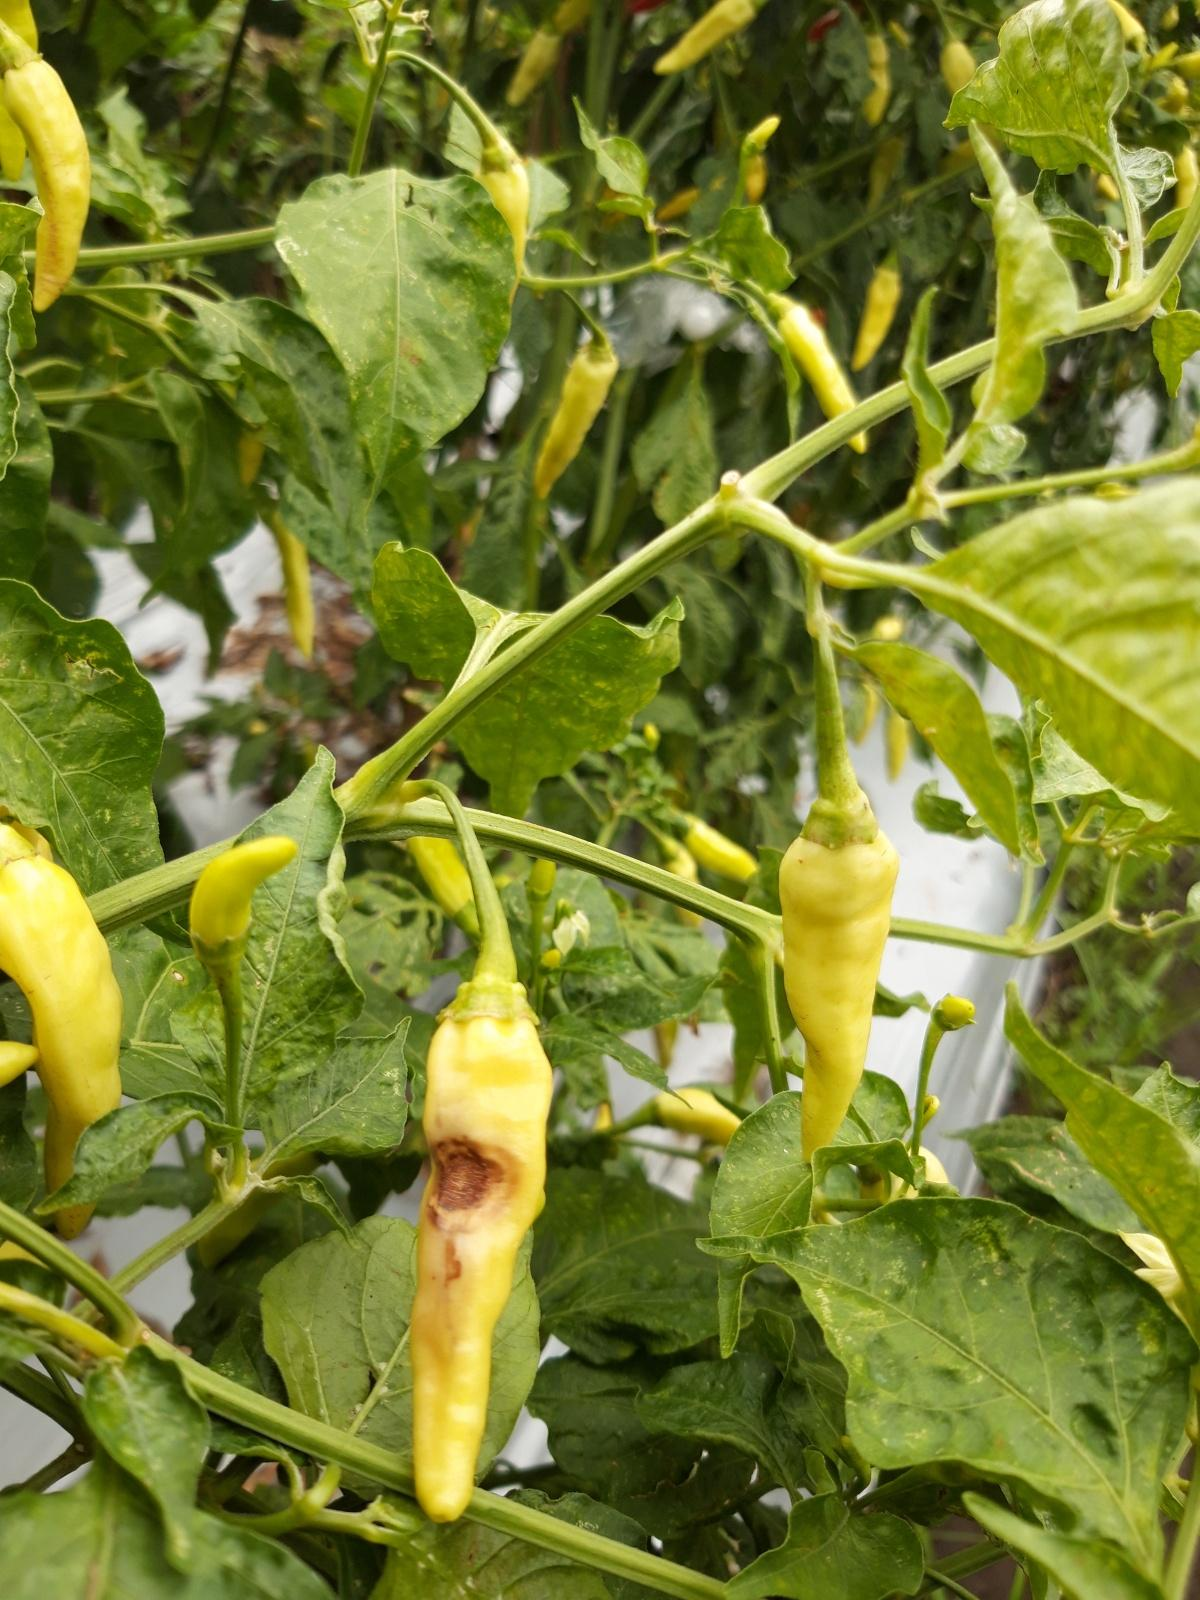cabai_normal: (783, 797, 900, 1162), (1, 821, 126, 1124), (1, 30, 92, 312), (768, 294, 867, 454), (188, 837, 297, 973), (533, 336, 620, 501), (852, 262, 903, 370), (739, 115, 782, 204)
lalat_buah: (408, 978, 553, 1524)
